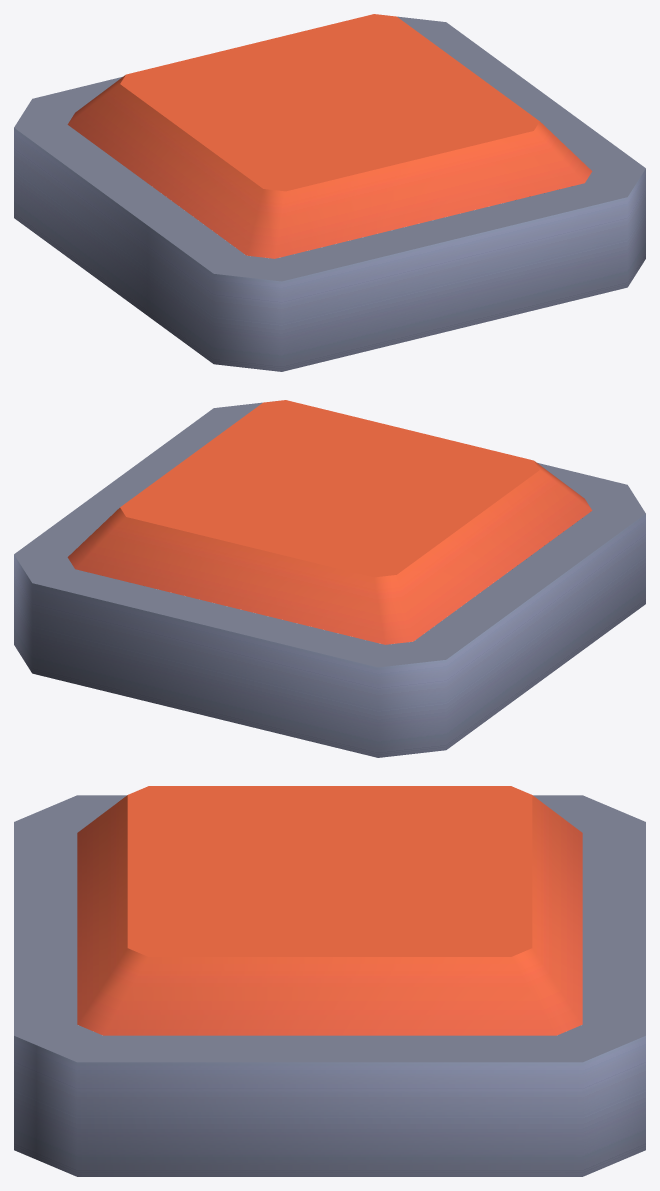
The model's file is button-floor-square-small.glb.
3 renders of one model, top to bottom at view 1: azimuth 30°, elevation 25°; view 2: azimuth 150°, elevation 25°; view 3: azimuth 270°, elevation 25°, orthographic. The views are drawn at different scales.
Visible parts, largest first — view 1: button-floor-square-small, button; view 2: button-floor-square-small, button; view 3: button, button-floor-square-small.
Boxes of the visible parts, bbox=[...] form: button-floor-square-small: bbox=[14, 16, 645, 371]; button: bbox=[67, 14, 592, 258]; button-floor-square-small: bbox=[14, 402, 645, 757]; button: bbox=[67, 400, 592, 644]; button: bbox=[77, 786, 582, 1035]; button-floor-square-small: bbox=[14, 795, 645, 1176].
Size of the model in its own units: 0.5 by 0.15 by 0.5.
Materials: 1 (1 with a texture image).
